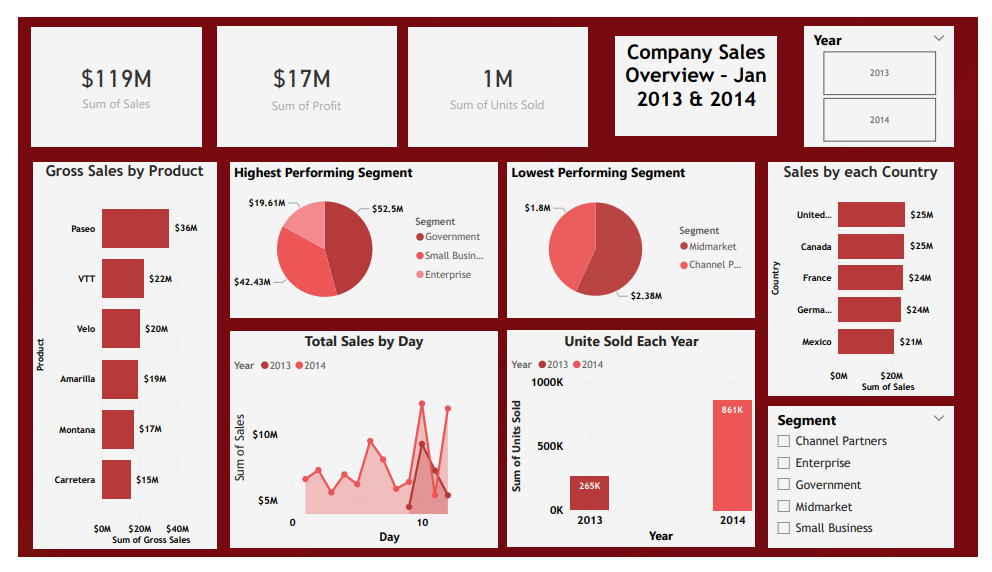

The dashboard page shown, as its layout file describes it:
{"tool":"powerbi","page":{"name":"Page 1","canvas":[1280,720],"ordinal":0},"visuals":[{"type":"advanceCardE03760C5AB684758B56AA29F9E6C257B","fields":{"mainMeasure":["Sum(Bike Sales.  Sales )"]},"box":[18.5,13.4,226.8,159.6],"z":0},{"type":"advanceCardE03760C5AB684758B56AA29F9E6C257B","fields":{"mainMeasure":["Sum(Bike Sales. Profit )"]},"box":[264.6,11.6,240,161.9],"z":1000},{"type":"advanceCardE03760C5AB684758B56AA29F9E6C257B","fields":{"mainMeasure":["Sum(Bike Sales. Units Sold )"]},"box":[520.5,13,238.6,160.5],"z":2000},{"type":"slicer","fields":{"Values":["Bike Sales.Date.Variation.Date Hierarchy.Year"]},"box":[1048.2,11.6,199.5,125.8],"z":3000},{"type":"pieChart","title":"Highest Performing Segment","fields":{"Y":["Sum(Bike Sales.  Sales )"],"Category":["Bike Sales.Segment"]},"box":[283.4,193.7,357.1,208.2],"z":4000},{"type":"barChart","title":" Gross Sales by Product ","fields":{"Y":["Sum(Bike Sales. Gross Sales )"],"Category":["Bike Sales. Product "]},"box":[20.2,193.2,245.2,515.7],"z":5000},{"type":"lineChart","title":"Total Sales by Day","fields":{"Y":["Sum(Bike Sales.  Sales )"],"Category":["Bike Sales.Date.Variation.Date Hierarchy.Day"],"Series":["Bike Sales.Date.Variation.Date Hierarchy.Year"]},"box":[283.4,419.3,357.1,289.2],"z":6000},{"type":"columnChart","title":"Unite Sold Each Year","fields":{"Category":["Bike Sales.Date.Variation.Date Hierarchy.Year"],"Series":["Bike Sales.Date.Variation.Date Hierarchy.Year"],"Y":["Sum(Bike Sales. Units Sold )"]},"box":[653.5,417.8,329.6,289.2],"z":7000},{"type":"slicer","fields":{"Values":["Bike Sales.Segment"]},"box":[1000.5,519,247.2,189.4],"z":8000},{"type":"pieChart","title":"Lowest Performing Segment","fields":{"Y":["Sum(Bike Sales.  Sales )"],"Category":["Bike Sales.Segment"]},"box":[653.5,193.7,329.6,208.2],"z":9000},{"type":"textbox","box":[795.2,31.8,205.3,105.5],"z":10000},{"type":"barChart","title":"Sales by each Country","fields":{"Category":["Bike Sales.Country"],"Y":["Sum(Bike Sales.  Sales )"]},"box":[1000.5,151.8,247.2,352.8],"z":11000}]}

Visuals, with their boxes in screenshot pixels (x1, y1, x2, y2), scaled from the page's 1280x720 canvas onto the 992x572 screenshot:
advanceCardE03760C5AB684758B56AA29F9E6C257B - Sum(Bike Sales.  Sales ): x1=14, y1=11, x2=190, y2=137
advanceCardE03760C5AB684758B56AA29F9E6C257B - Sum(Bike Sales. Profit ): x1=205, y1=9, x2=391, y2=138
advanceCardE03760C5AB684758B56AA29F9E6C257B - Sum(Bike Sales. Units Sold ): x1=403, y1=10, x2=588, y2=138
slicer - Bike Sales.Date.Variation.Date Hierarchy.Year: x1=812, y1=9, x2=967, y2=109
"Highest Performing Segment" pieChart: x1=220, y1=154, x2=496, y2=319
" Gross Sales by Product " barChart: x1=16, y1=153, x2=206, y2=563
"Total Sales by Day" lineChart: x1=220, y1=333, x2=496, y2=563
"Unite Sold Each Year" columnChart: x1=506, y1=332, x2=762, y2=562
slicer - Bike Sales.Segment: x1=775, y1=412, x2=967, y2=563
"Lowest Performing Segment" pieChart: x1=506, y1=154, x2=762, y2=319
textbox: x1=616, y1=25, x2=775, y2=109
"Sales by each Country" barChart: x1=775, y1=121, x2=967, y2=401
